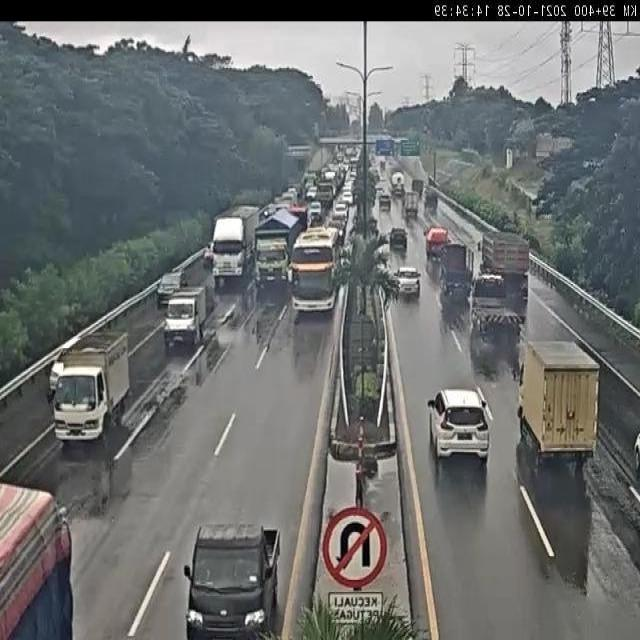Bus: (288, 227, 340, 316)
Car: (426, 386, 490, 462), (156, 271, 188, 309), (394, 266, 422, 300), (390, 227, 408, 249), (333, 200, 348, 223), (308, 201, 322, 223), (342, 190, 354, 206), (306, 186, 318, 202)
Truck: (183, 521, 281, 640), (517, 338, 599, 469), (51, 330, 129, 440), (254, 206, 306, 296), (478, 232, 530, 316), (210, 206, 260, 291), (163, 283, 210, 350), (472, 274, 523, 334), (434, 239, 474, 306), (424, 227, 448, 260)
